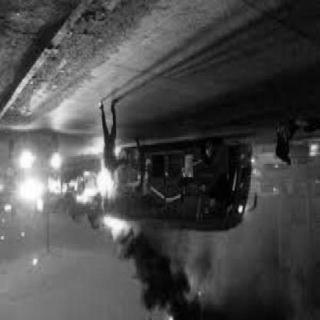Fire: (96, 216, 134, 256), (92, 166, 115, 197)
Smoke: (124, 239, 204, 319)
other: (16, 139, 62, 213)
